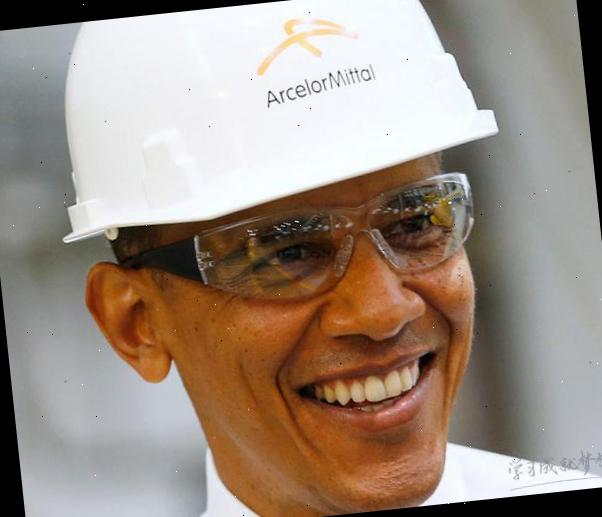helmet: (28, 0, 513, 263)
